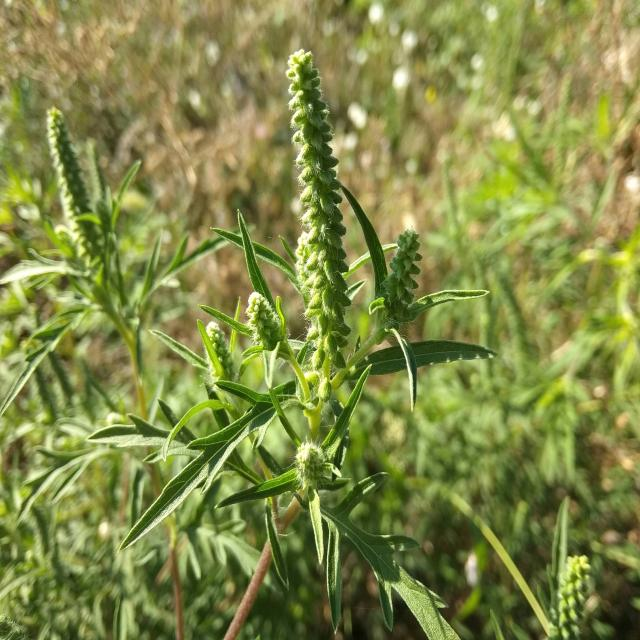ambrosia: (167, 25, 469, 551), (12, 109, 141, 382), (532, 541, 602, 640)
